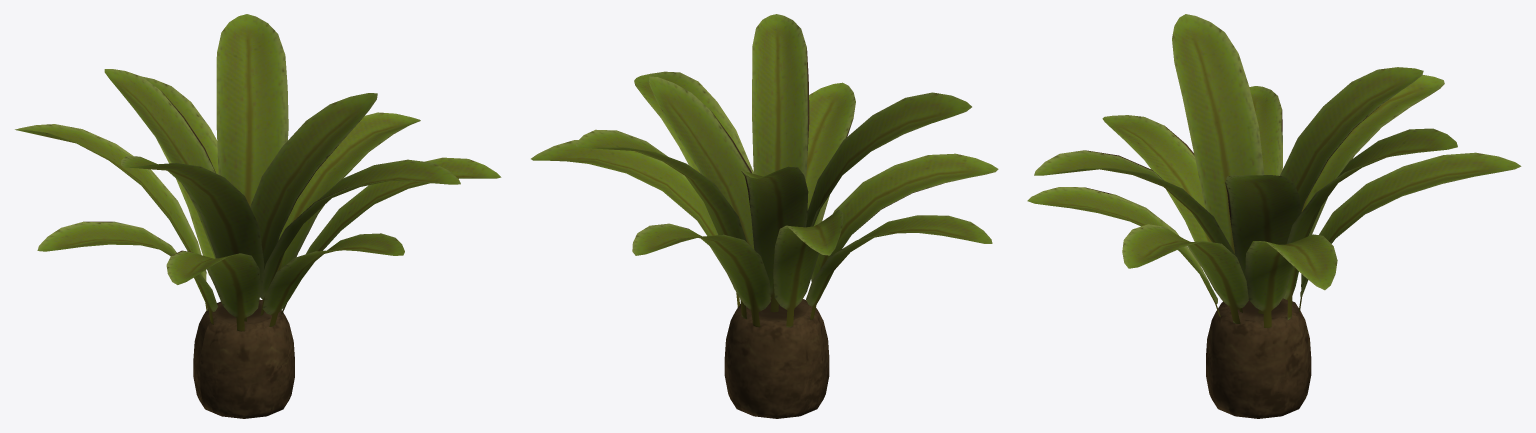
The model's file is sb_obj_nature010_Jungles03b.fbx.
The picture shows the model from 3 angles, left to right: view 1: azimuth 30°, elevation 25°; view 2: azimuth 150°, elevation 25°; view 3: azimuth 270°, elevation 25°; orthographic projection. The views are drawn at different scales.
Visible parts, largest first — view 1: jungles03b_leaf, sb_obj_nature010_Jungles03b; view 2: jungles03b_leaf, sb_obj_nature010_Jungles03b; view 3: jungles03b_leaf, sb_obj_nature010_Jungles03b.
Boxes of the visible parts, box(x1,y1,x2,y2) form: jungles03b_leaf: box(15, 14, 501, 331); sb_obj_nature010_Jungles03b: box(193, 299, 294, 418); jungles03b_leaf: box(531, 14, 998, 327); sb_obj_nature010_Jungles03b: box(724, 297, 829, 418); jungles03b_leaf: box(1027, 14, 1521, 328); sb_obj_nature010_Jungles03b: box(1206, 296, 1311, 418).
Size of the model in its own units: 2.49 by 1.71 by 2.48.
